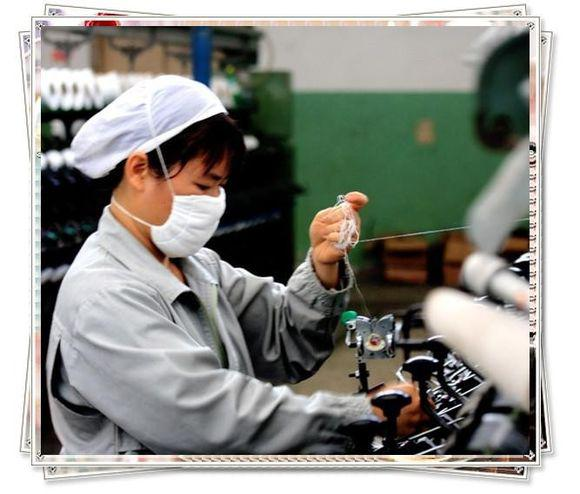OK: (131, 155, 230, 253)
